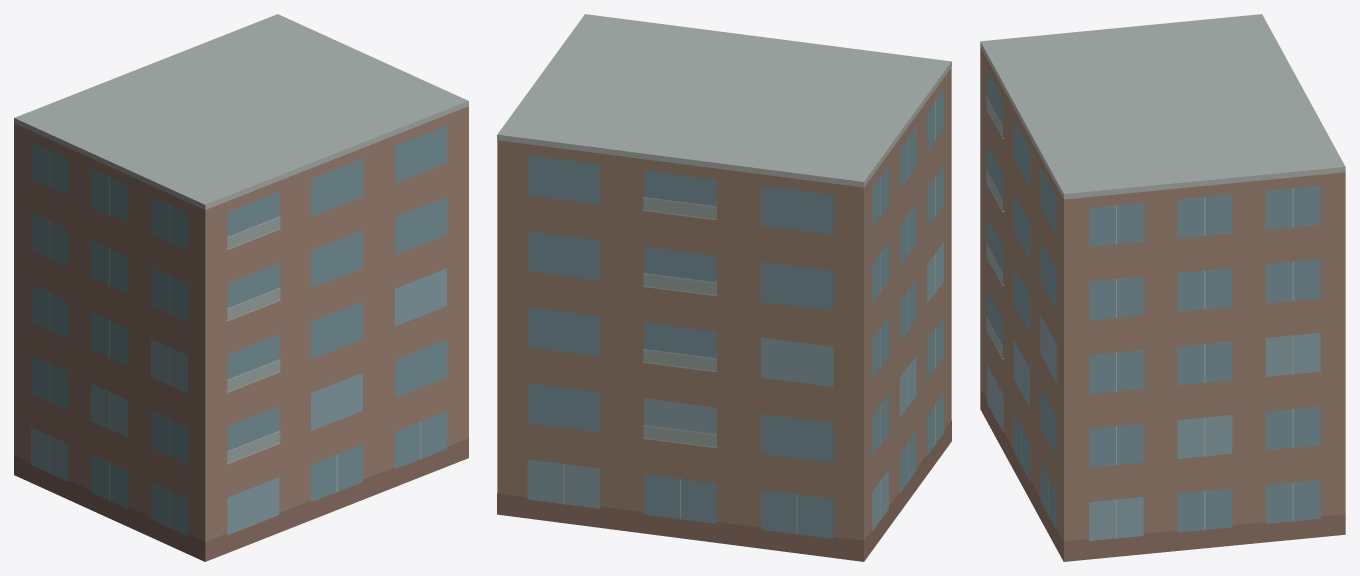
The model's file is survey-upis-33010554.glb.
3 views of the same model, side by side, from view 1: azimuth 30°, elevation 25°; view 2: azimuth 150°, elevation 25°; view 3: azimuth 270°, elevation 25° (orthographic). The views are drawn at different scales.
Parts seen in each view (by area): view 1: survey-upis-33010554.tmp; view 2: survey-upis-33010554.tmp; view 3: survey-upis-33010554.tmp.
Part boxes in pixels (x1=…): survey-upis-33010554.tmp: x1=14, y1=14, x2=468, y2=561; survey-upis-33010554.tmp: x1=497, y1=14, x2=951, y2=561; survey-upis-33010554.tmp: x1=980, y1=14, x2=1345, y2=561.
Size of the model in its own units: 17.45 by 16.6 by 14.96.
